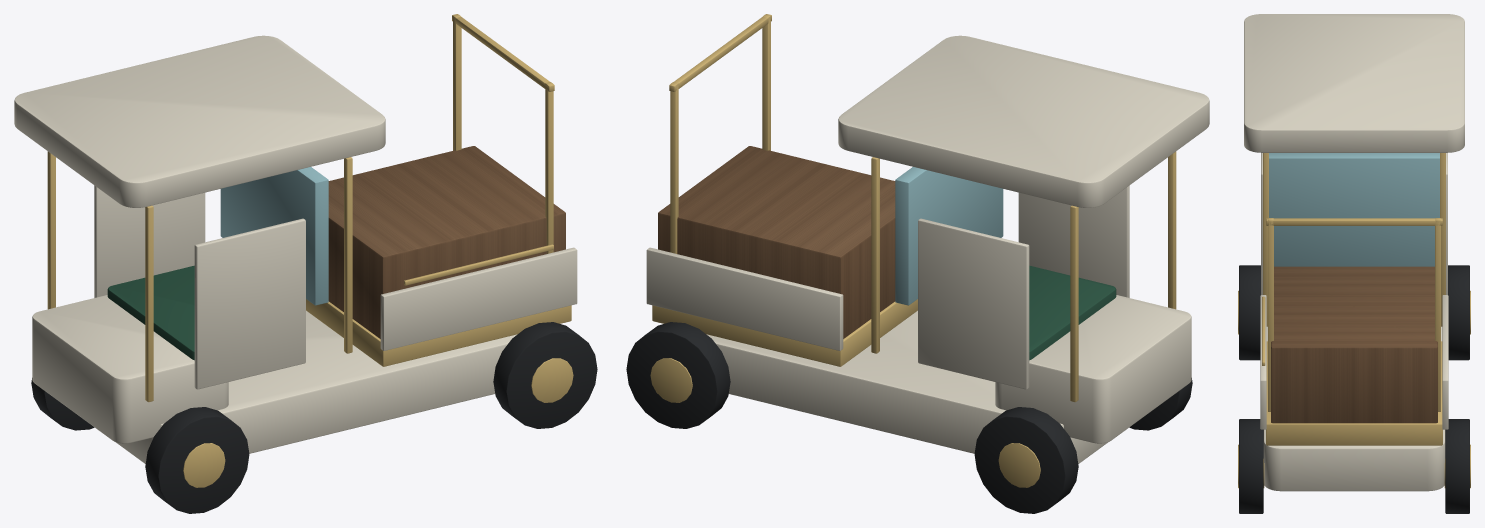
Rendered from utility_cart_country_club.glb.
3 renders of one model, left to right at view 1: azimuth 30°, elevation 25°; view 2: azimuth 150°, elevation 25°; view 3: azimuth 270°, elevation 25°, orthographic. The views are drawn at different scales.
Parts seen in each view (by area): view 1: Canopy_Roof, UtilityCart_FinishedCargoBox, ServiceCart_Chassis, ServiceCart_Hood, ServiceCart_CabDoor_L, ServiceCart_BedSide_L, ServiceCart_CabDoor_R, ServiceCart_Windshield, ServiceWheel_Front_L_Tire, ServiceWheel_Rear_L_Tire, ServiceCart_BedFloor, ServiceCart_Seat (+10 smaller); view 2: Canopy_Roof, UtilityCart_FinishedCargoBox, ServiceCart_Chassis, ServiceCart_Hood, ServiceCart_CabDoor_R, ServiceCart_BedSide_R, ServiceCart_CabDoor_L, ServiceCart_Windshield, ServiceWheel_Front_R_Tire, ServiceWheel_Rear_R_Tire, ServiceCart_BedFloor, ServiceCart_Seat (+9 smaller); view 3: Canopy_Roof, UtilityCart_FinishedCargoBox, ServiceCart_Windshield, ServiceCart_Chassis, ServiceCart_BedFloor, ServiceWheel_Rear_L_Tire, ServiceWheel_Rear_R_Tire, ServiceWheel_Front_L_Tire, ServiceWheel_Front_R_Tire, ServiceCart_SafetyRackTop, ServiceCart_SafetyRackPost_R, ServiceCart_SafetyRackPost_L (+7 smaller).
Boxes of the visible parts, left/top/right/bottom form: Canopy_Roof: left=14, top=35, right=385, bottom=207; UtilityCart_FinishedCargoBox: left=328, top=146, right=565, bottom=338; ServiceCart_Chassis: left=116, top=310, right=517, bottom=463; ServiceCart_Hood: left=32, top=295, right=228, bottom=443; ServiceCart_CabDoor_L: left=194, top=218, right=305, bottom=389; ServiceCart_BedSide_L: left=380, top=247, right=577, bottom=350; ServiceCart_CabDoor_R: left=94, top=185, right=205, bottom=297; ServiceCart_Windshield: left=220, top=167, right=328, bottom=305; ServiceWheel_Front_L_Tire: left=145, top=407, right=249, bottom=513; ServiceWheel_Rear_L_Tire: left=493, top=322, right=597, bottom=428; ServiceCart_BedFloor: left=306, top=299, right=571, bottom=366; ServiceCart_Seat: left=107, top=265, right=194, bottom=360; Canopy_Roof: left=838, top=35, right=1209, bottom=207; UtilityCart_FinishedCargoBox: left=658, top=146, right=895, bottom=338; ServiceCart_Chassis: left=706, top=310, right=1107, bottom=463; ServiceCart_Hood: left=995, top=295, right=1191, bottom=443; ServiceCart_CabDoor_R: left=918, top=218, right=1029, bottom=389; ServiceCart_BedSide_R: left=646, top=247, right=843, bottom=350; ServiceCart_CabDoor_L: left=1018, top=185, right=1129, bottom=297; ServiceCart_Windshield: left=895, top=167, right=1003, bottom=305; ServiceWheel_Front_R_Tire: left=974, top=407, right=1078, bottom=513; ServiceWheel_Rear_R_Tire: left=626, top=322, right=730, bottom=428; ServiceCart_BedFloor: left=652, top=299, right=917, bottom=366; ServiceCart_Seat: left=1029, top=265, right=1116, bottom=360; Canopy_Roof: left=1244, top=14, right=1464, bottom=152; UtilityCart_FinishedCargoBox: left=1271, top=266, right=1437, bottom=423; ServiceCart_Windshield: left=1269, top=153, right=1439, bottom=266; ServiceCart_Chassis: left=1263, top=326, right=1445, bottom=491; ServiceCart_BedFloor: left=1266, top=341, right=1442, bottom=445; ServiceWheel_Rear_L_Tire: left=1239, top=419, right=1263, bottom=513; ServiceWheel_Rear_R_Tire: left=1445, top=419, right=1469, bottom=513; ServiceWheel_Front_L_Tire: left=1239, top=265, right=1260, bottom=360; ServiceWheel_Front_R_Tire: left=1448, top=265, right=1469, bottom=360; ServiceCart_SafetyRackTop: left=1266, top=218, right=1442, bottom=225; ServiceCart_SafetyRackPost_R: left=1435, top=218, right=1440, bottom=411; ServiceCart_SafetyRackPost_L: left=1268, top=218, right=1273, bottom=411.
Size of what is drawn, in the model's own units: 2.74 by 1.92 by 1.31.
Materials: 7 (1 with a texture image).
